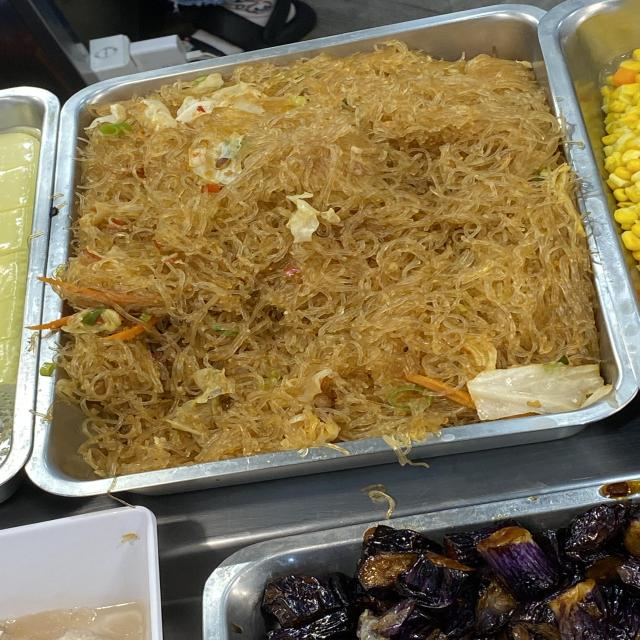Ants climbing the tree: (130, 124, 523, 400)
